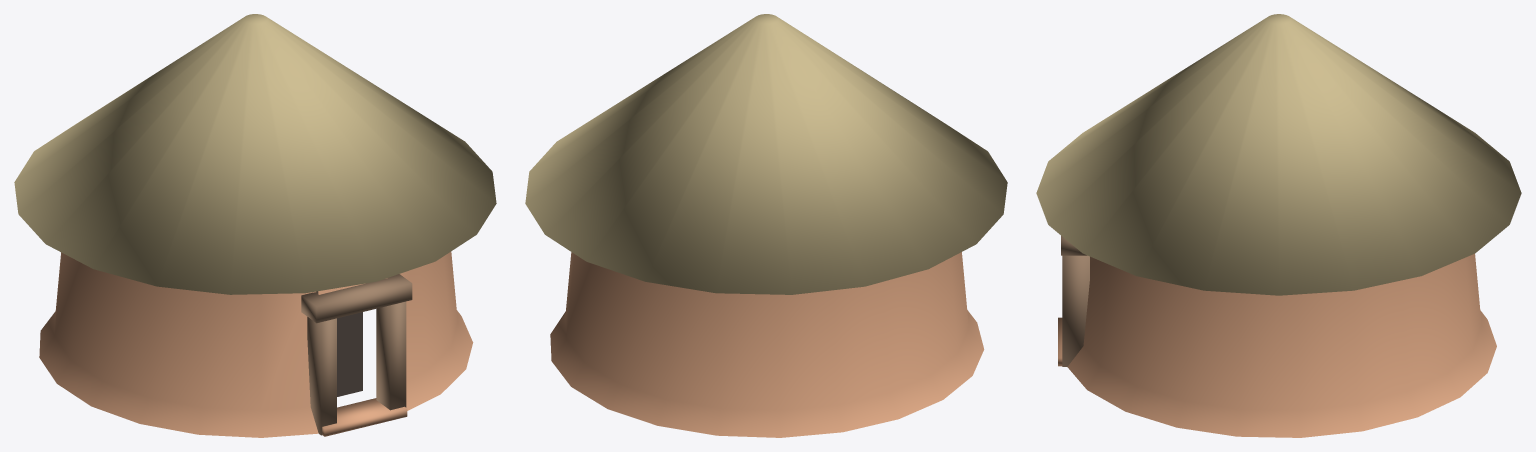
File: hut.glb
3 views of the same model, side by side, from view 1: azimuth 30°, elevation 25°; view 2: azimuth 150°, elevation 25°; view 3: azimuth 270°, elevation 25° (orthographic).
Visible parts, largest first — view 1: Hut; view 2: Hut; view 3: Hut.
Part boxes in pixels (box(x1,y1,x2,y2)): Hut: box(14, 14, 496, 437); Hut: box(525, 14, 1007, 437); Hut: box(1036, 14, 1521, 437).
Bounding box in the file's own units: 3.16 × 2.35 × 3.16.
